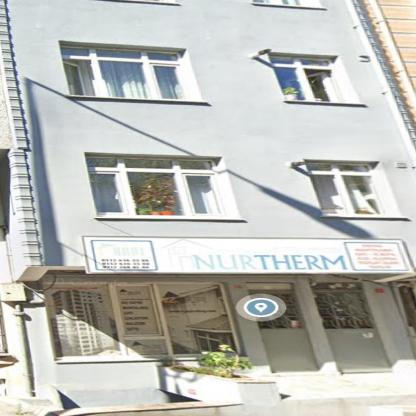door: (315, 290, 390, 372), (252, 292, 317, 372)
window: (46, 282, 243, 359), (62, 46, 190, 100), (308, 163, 383, 214), (272, 56, 342, 102), (177, 160, 222, 216), (87, 157, 130, 215), (254, 0, 314, 5)
